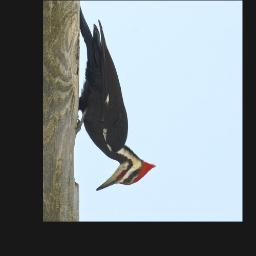Woodpecker: (77, 20, 159, 193)
